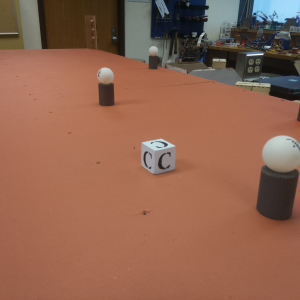blockC: (140, 139, 176, 175)
corner: (86, 15, 99, 48)
obstacle: (259, 134, 299, 224), (97, 67, 115, 106), (148, 45, 158, 68)
